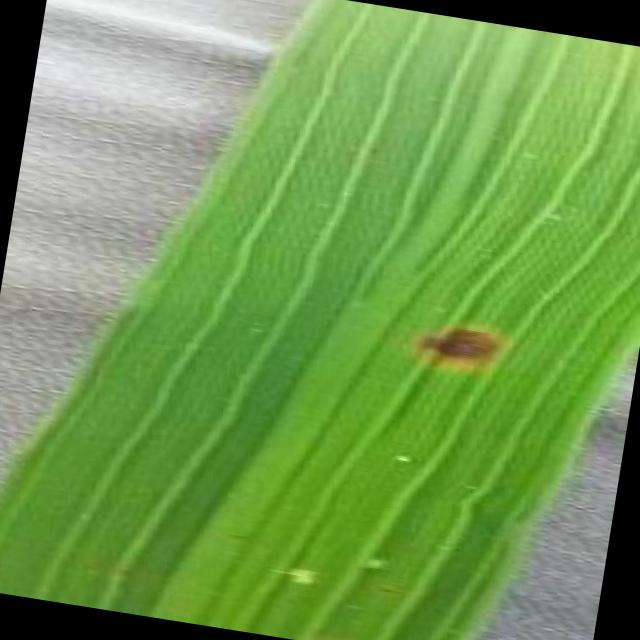Rice_Brownspot: (398, 297, 520, 388)
